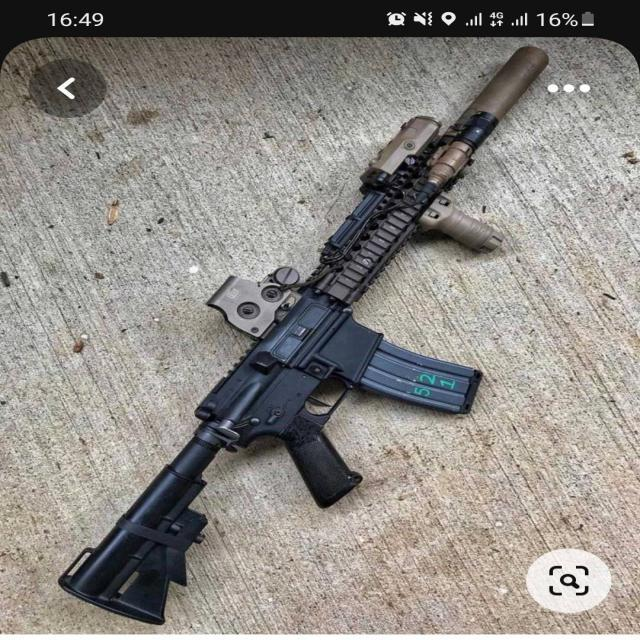m16: (269, 59, 569, 458)
